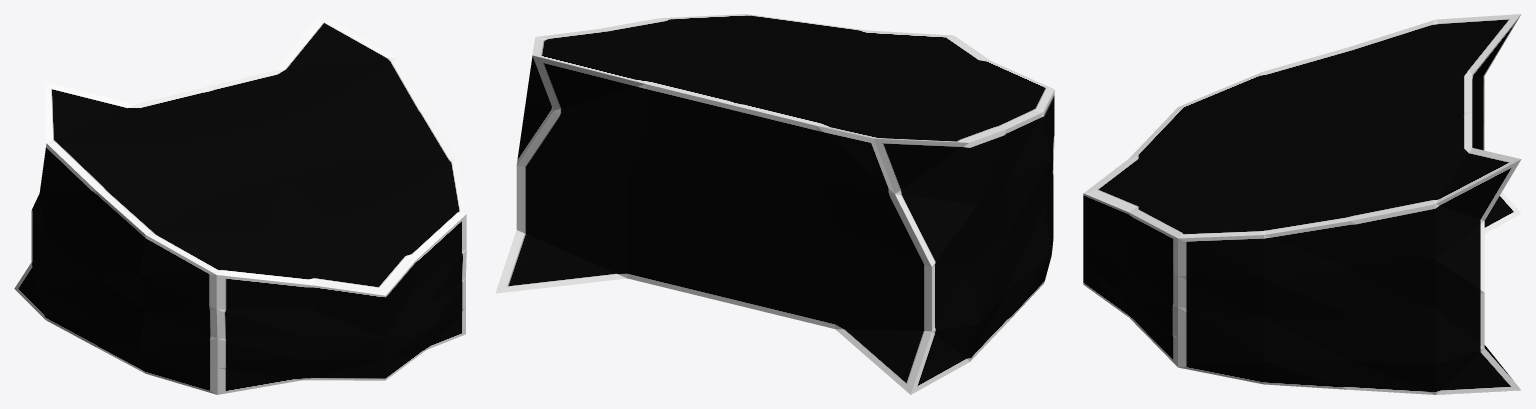
File: EnemyStrong.fbx
The picture shows the model from 3 angles, left to right: view 1: azimuth 30°, elevation 25°; view 2: azimuth 150°, elevation 25°; view 3: azimuth 270°, elevation 25°; orthographic projection. The views are drawn at different scales.
Parts seen in each view (by area): view 1: EnemyStrong; view 2: EnemyStrong; view 3: EnemyStrong.
Part boxes in pixels (bbox=[...]): EnemyStrong: bbox=[14, 14, 466, 394]; EnemyStrong: bbox=[495, 14, 1054, 394]; EnemyStrong: bbox=[1083, 14, 1521, 394].
Size of the model in its own units: 1.44 by 0.7522 by 1.38.
